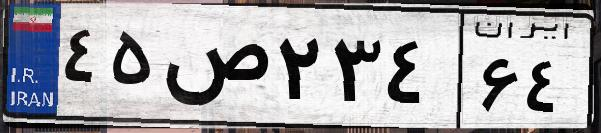2: (270, 28, 330, 110)
3: (330, 28, 385, 110)
4: (385, 28, 445, 110), (57, 26, 110, 100), (525, 38, 570, 115)
5: (110, 28, 158, 98)
6: (475, 38, 525, 113)
ص: (158, 20, 270, 120)
